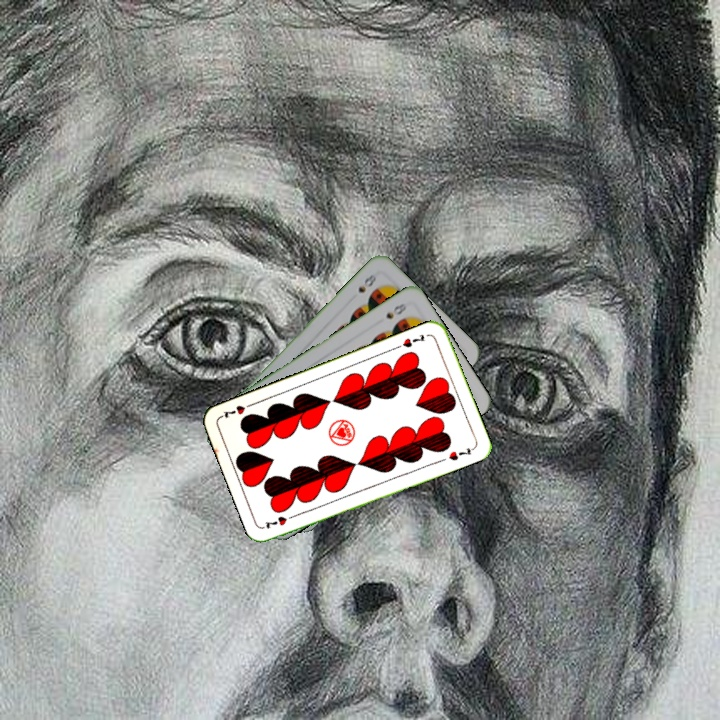H7: (261, 510, 299, 531), (392, 330, 428, 351)
S8: (354, 268, 380, 295), (382, 298, 410, 322)
